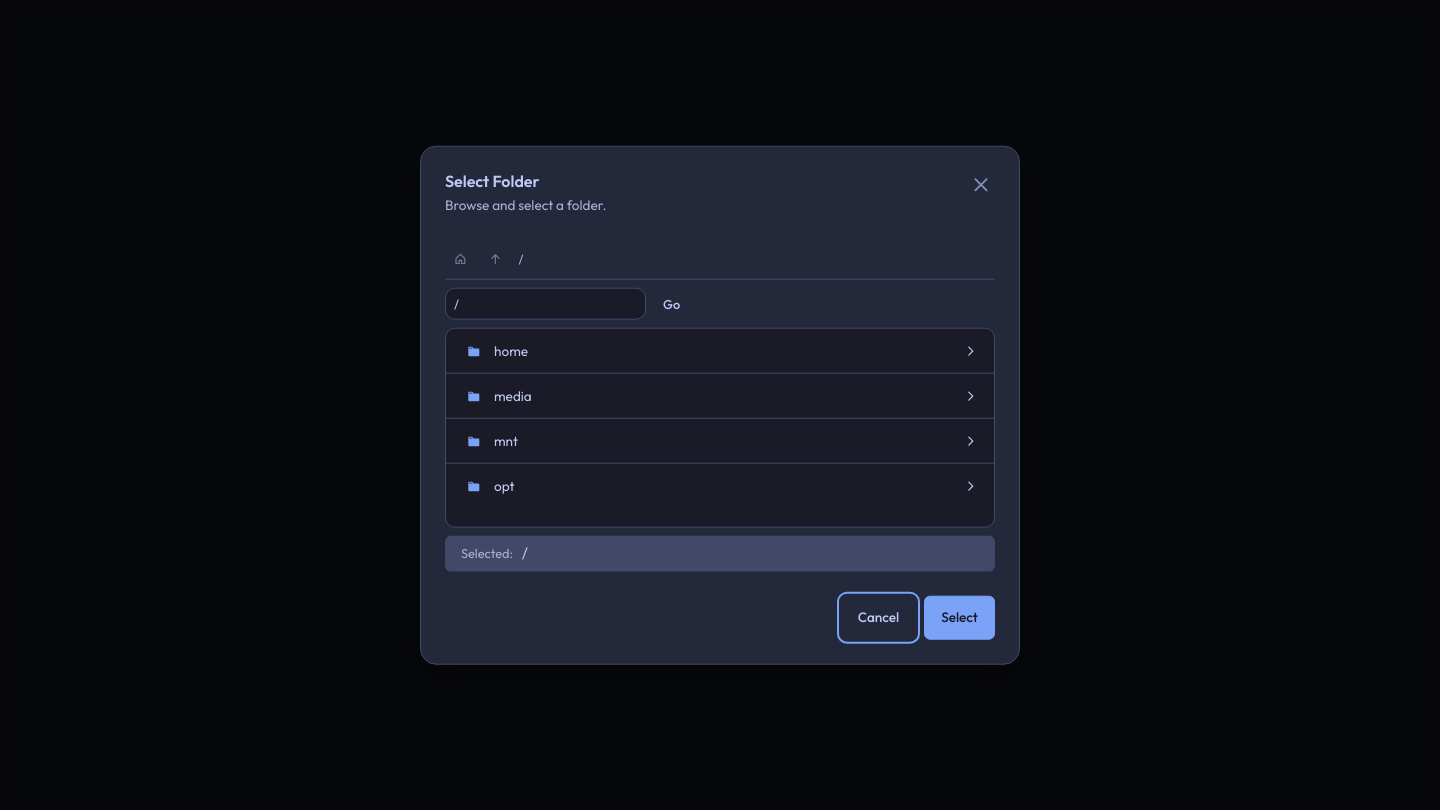
Test case: FileBrowser › navigates via manual path input
Expected: the text "home" is shown, top-left (494, 342), bottom-right (528, 360)
Replace the text in the field with placeholder "Enter path manually..." with "/media/storage": x=546, y=304 top-left (446, 290), bottom-right (645, 318)
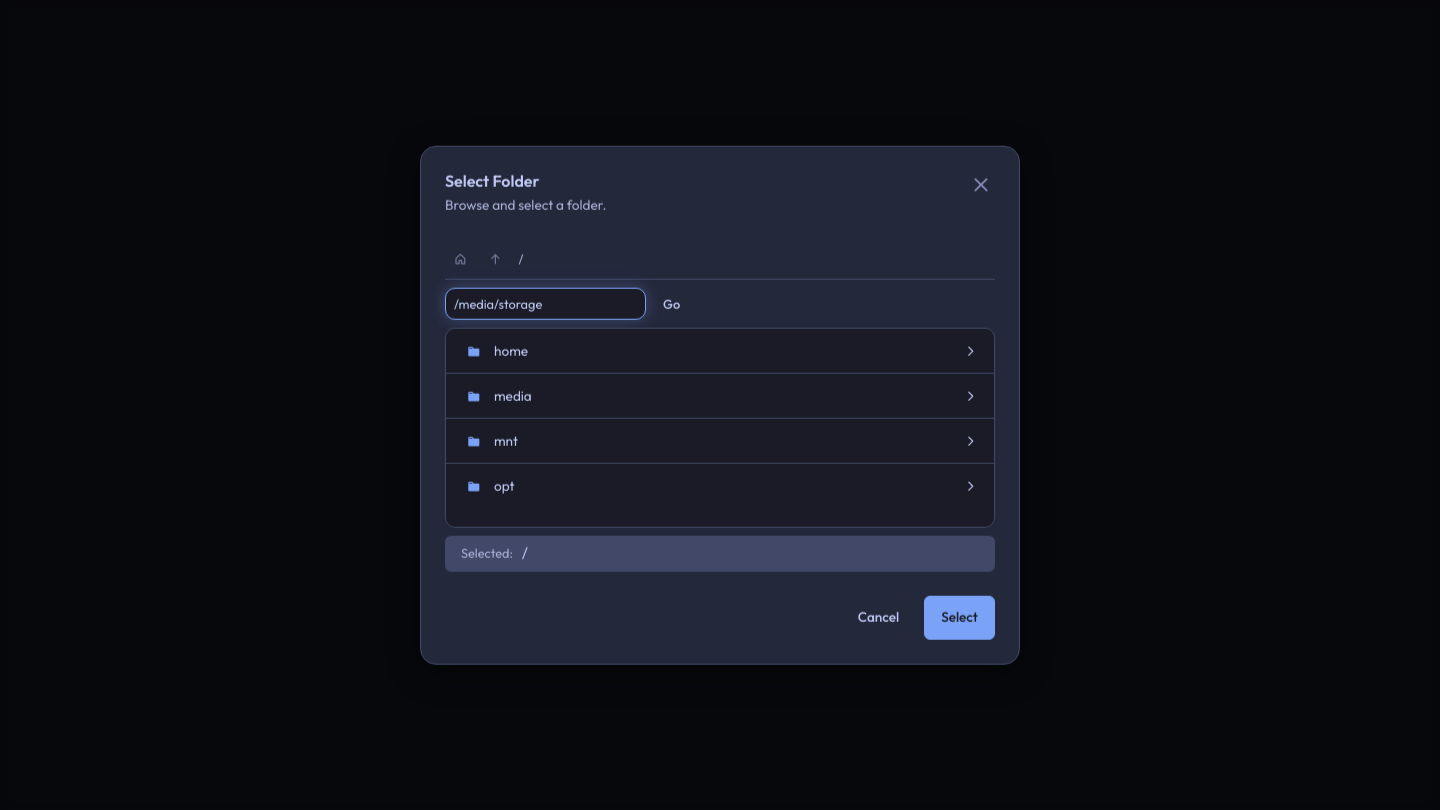
Click the button "Go": x=672, y=304 top-left (654, 288), bottom-right (689, 320)
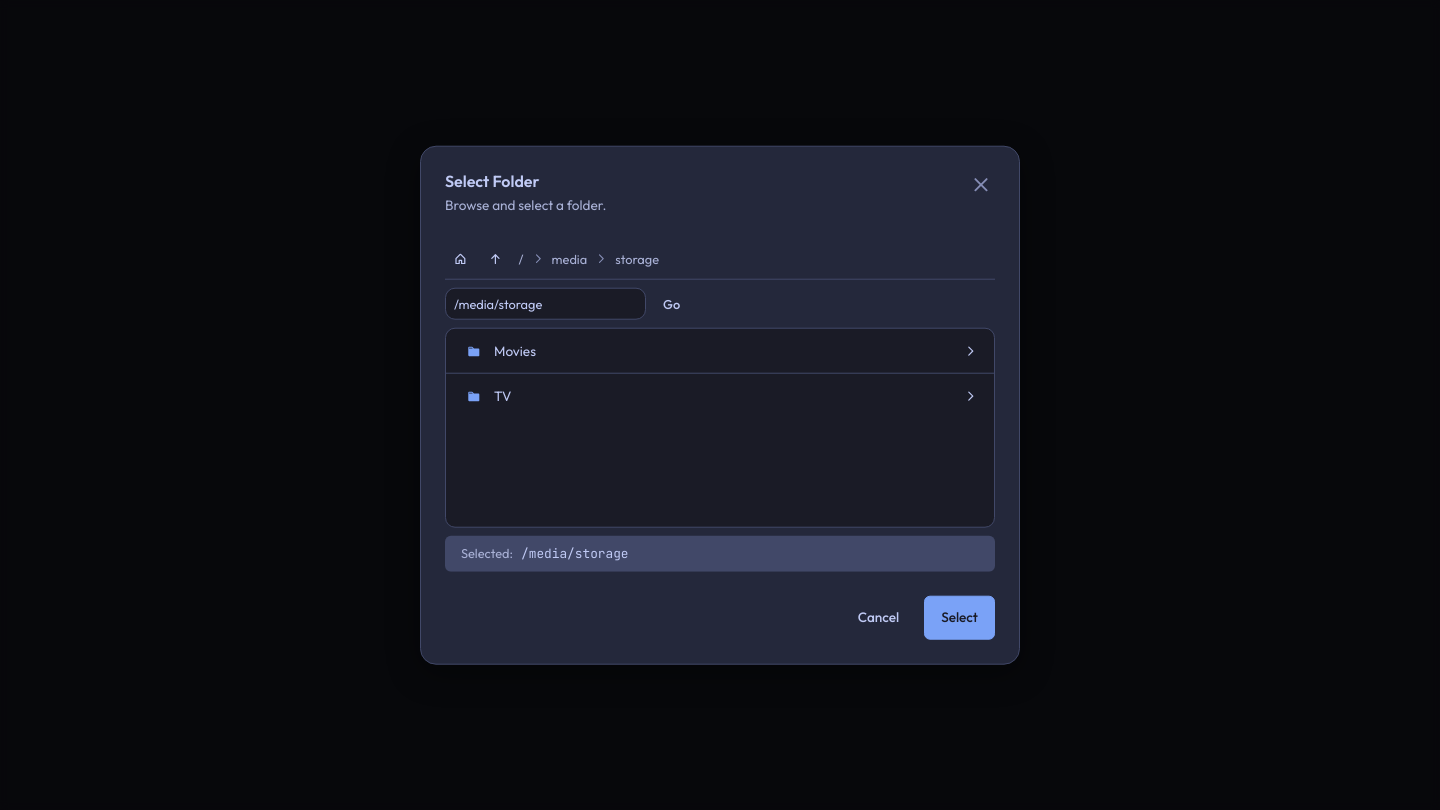
Expected: the text "Movies" is shown, top-left (494, 342), bottom-right (536, 360)
